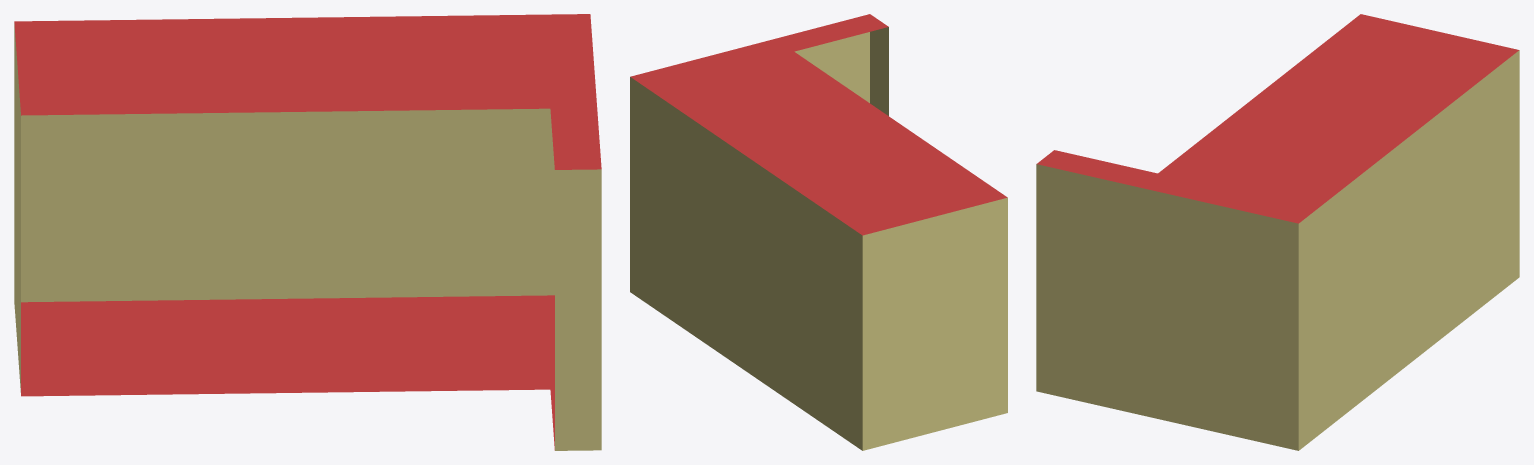
The picture shows the model from 3 angles, left to right: view 1: azimuth 30°, elevation 25°; view 2: azimuth 150°, elevation 25°; view 3: azimuth 270°, elevation 25°; orthographic projection. The views are drawn at different scales.
Size of the model in its own units: 9.82 by 9.56 by 4.97.
